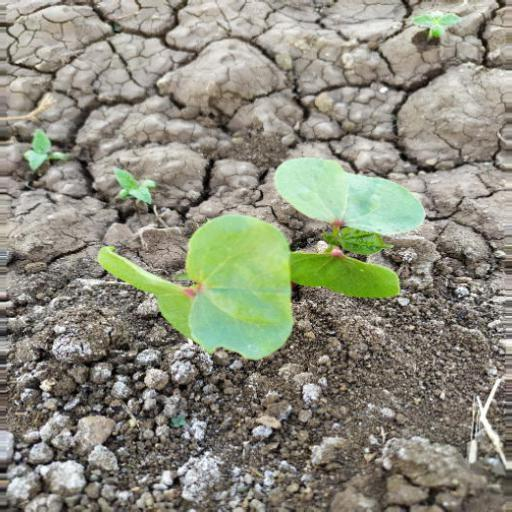weed: (85, 154, 426, 373)
